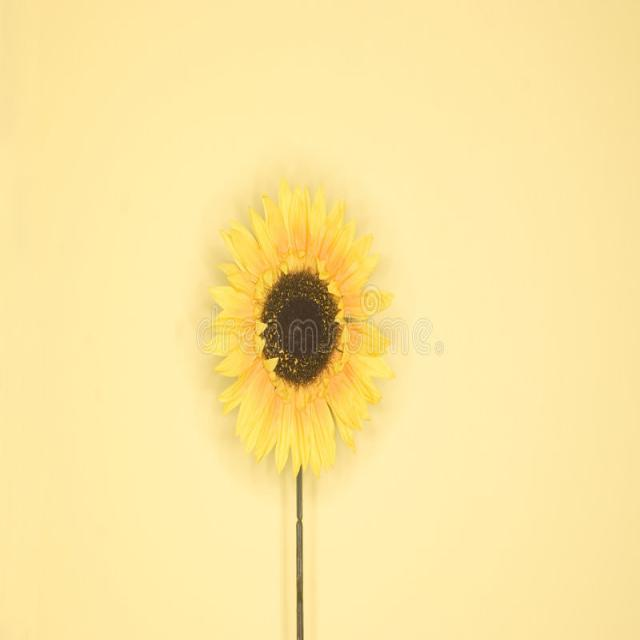sunflower: (197, 161, 404, 490)
